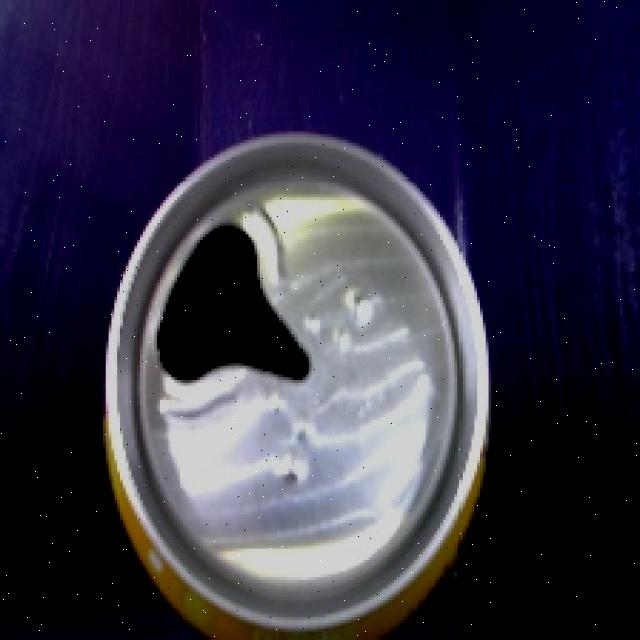metal: (96, 118, 508, 640)
